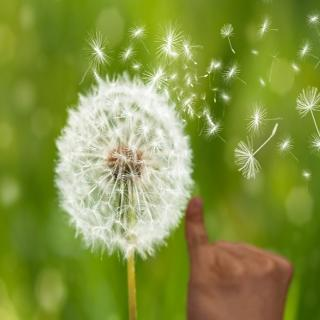FINE: (177, 194, 298, 320)
